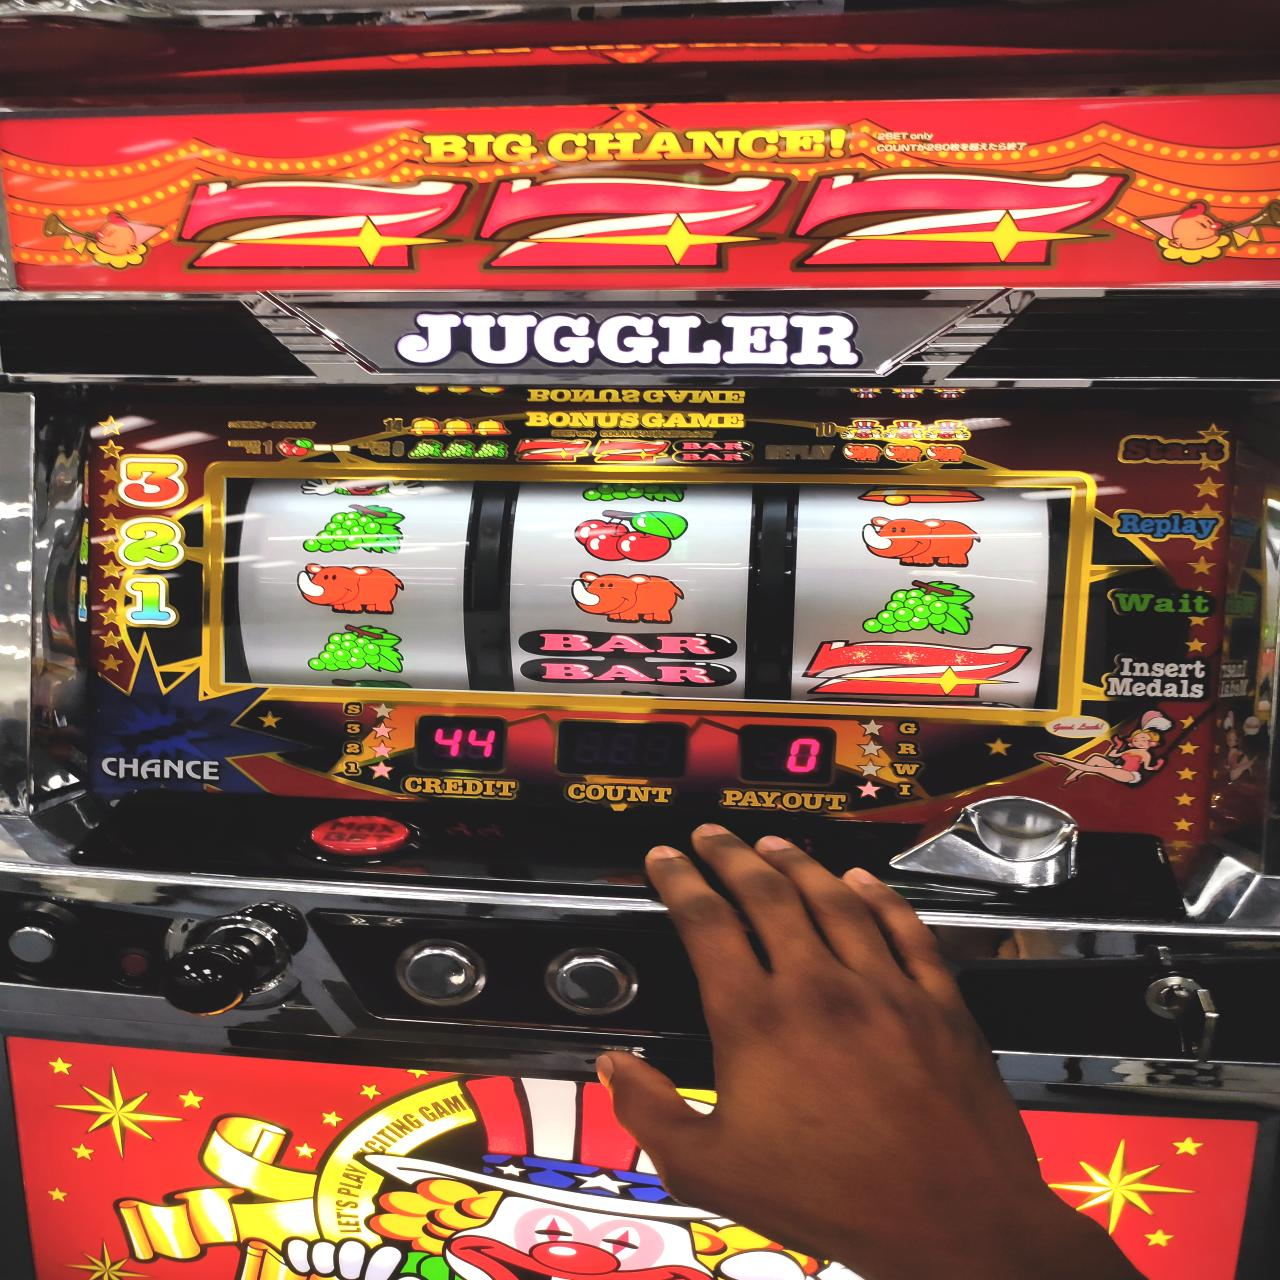8: (855, 516, 985, 572), (570, 571, 686, 622), (295, 561, 402, 613)
Display: (213, 471, 1070, 707)
bar: (519, 631, 733, 692)
cherry: (572, 508, 689, 561)
grape: (863, 579, 975, 640), (298, 502, 406, 556), (308, 622, 404, 674)
